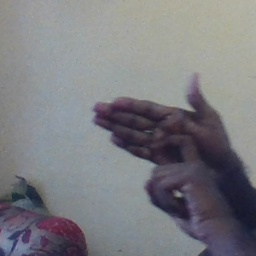R: (88, 73, 236, 223)
